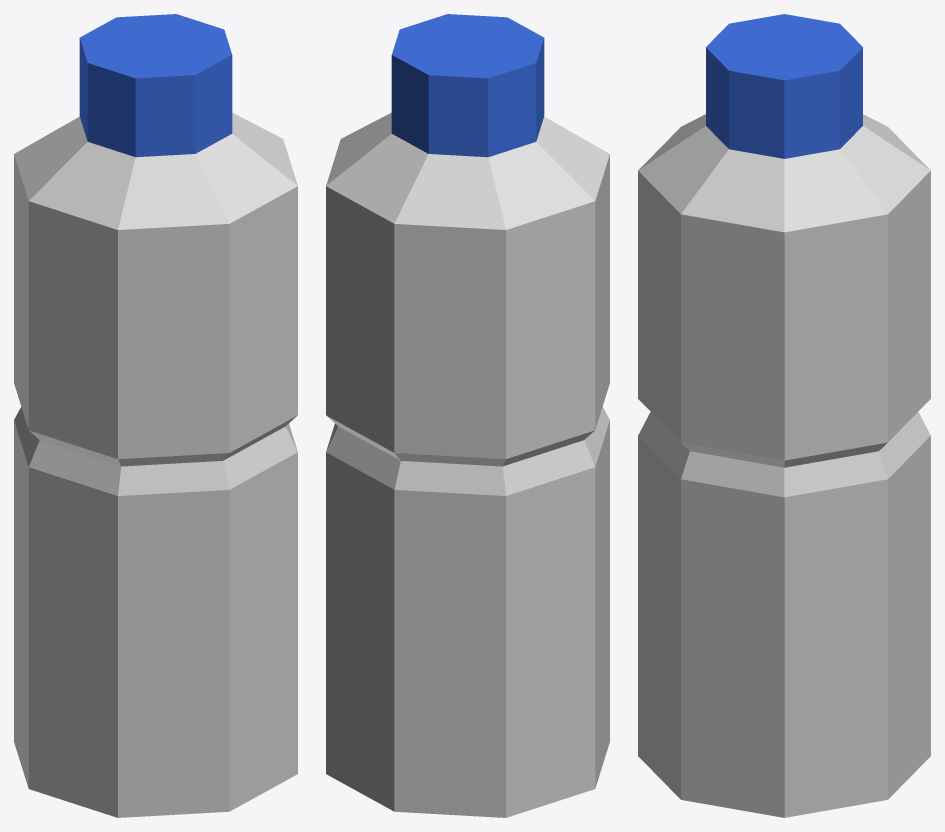
The model's file is eau.fbx.
3 views of the same model, side by side, from view 1: azimuth 30°, elevation 25°; view 2: azimuth 150°, elevation 25°; view 3: azimuth 270°, elevation 25° (orthographic).
Visible parts, largest first — view 1: eau; view 2: eau; view 3: eau.
Part boxes in pixels (<box>): eau: <box>14,14,297,817</box>; eau: <box>326,14,609,817</box>; eau: <box>638,14,930,817</box>.
Bounding box in the file's own units: 20.44 × 20.44 × 54.59.
